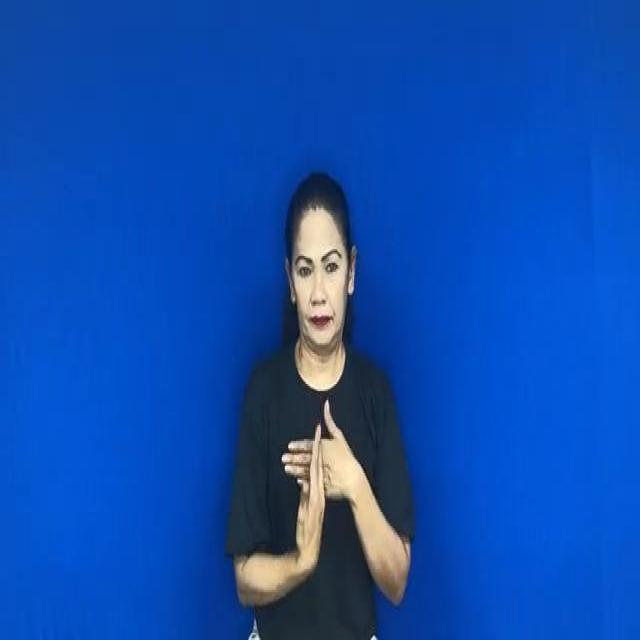bread: (282, 393, 358, 576)
